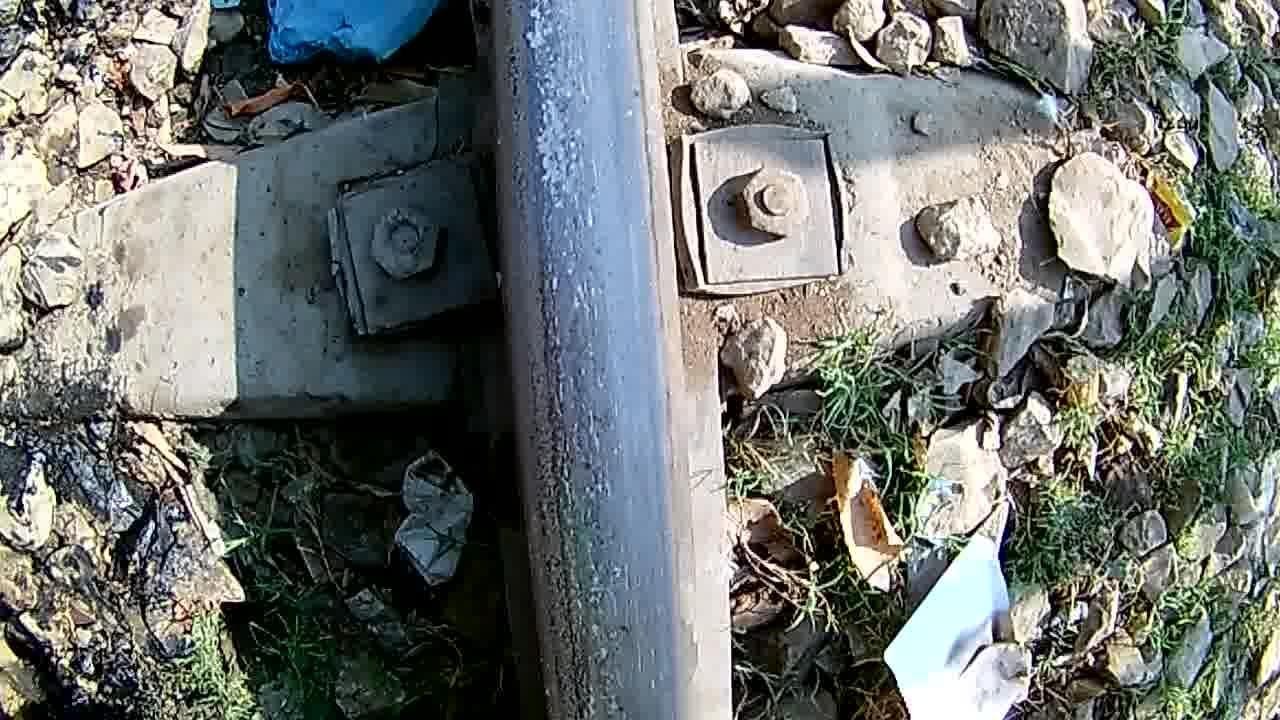crack: (512, 0, 656, 717)
